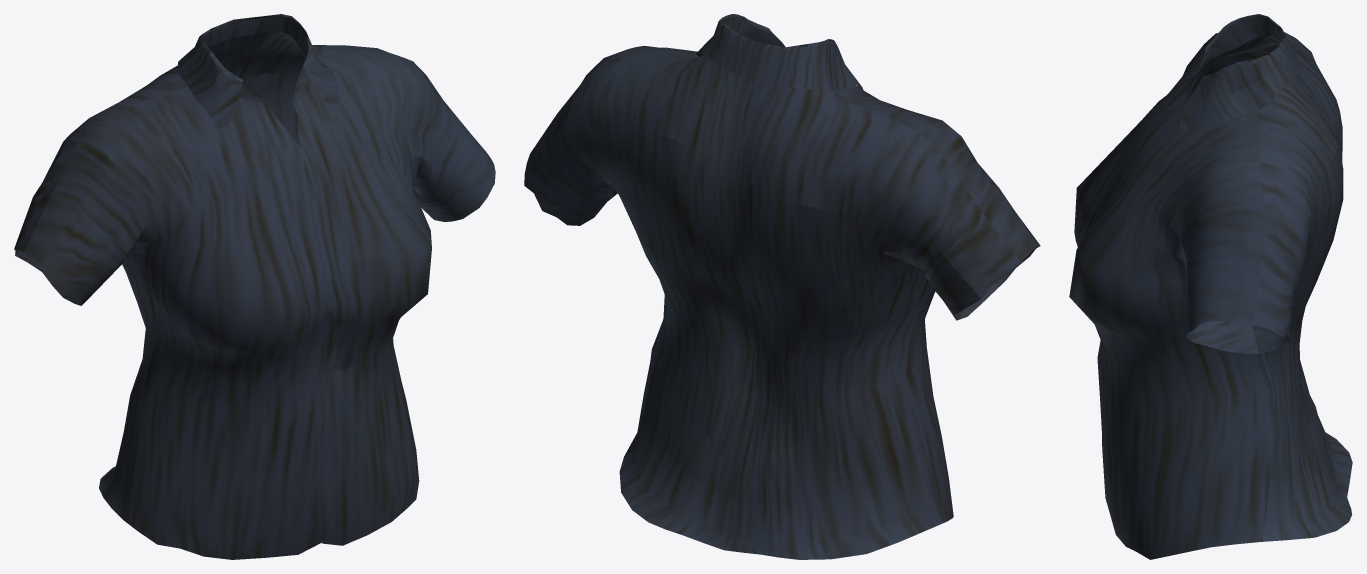
File: SM_XLF.dae
3 views of the same model, side by side, from view 1: azimuth 30°, elevation 25°; view 2: azimuth 150°, elevation 25°; view 3: azimuth 270°, elevation 25° (orthographic). The views are drawn at different scales.
Parts seen in each view (by area): view 1: SM; view 2: SM; view 3: SM.
Boxes of the visible parts, x1=… form: SM: x1=14, y1=14, x2=495, y2=559; SM: x1=524, y1=14, x2=1040, y2=559; SM: x1=1069, y1=14, x2=1352, y2=559.
Size of the model in its own units: 5.64 by 5.53 by 2.96.
